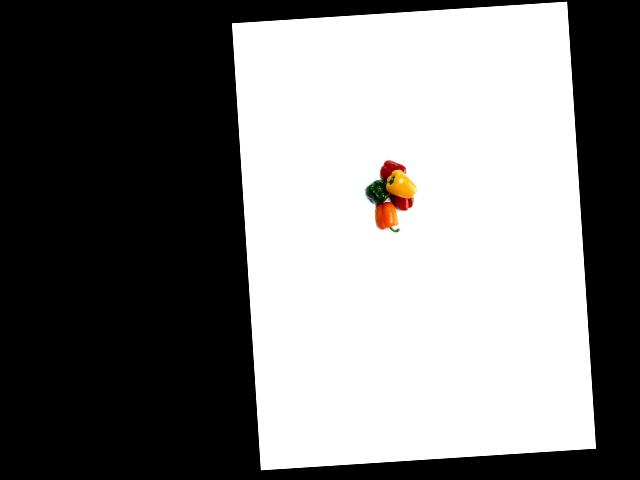bell_pepper: (360, 173, 396, 206)
